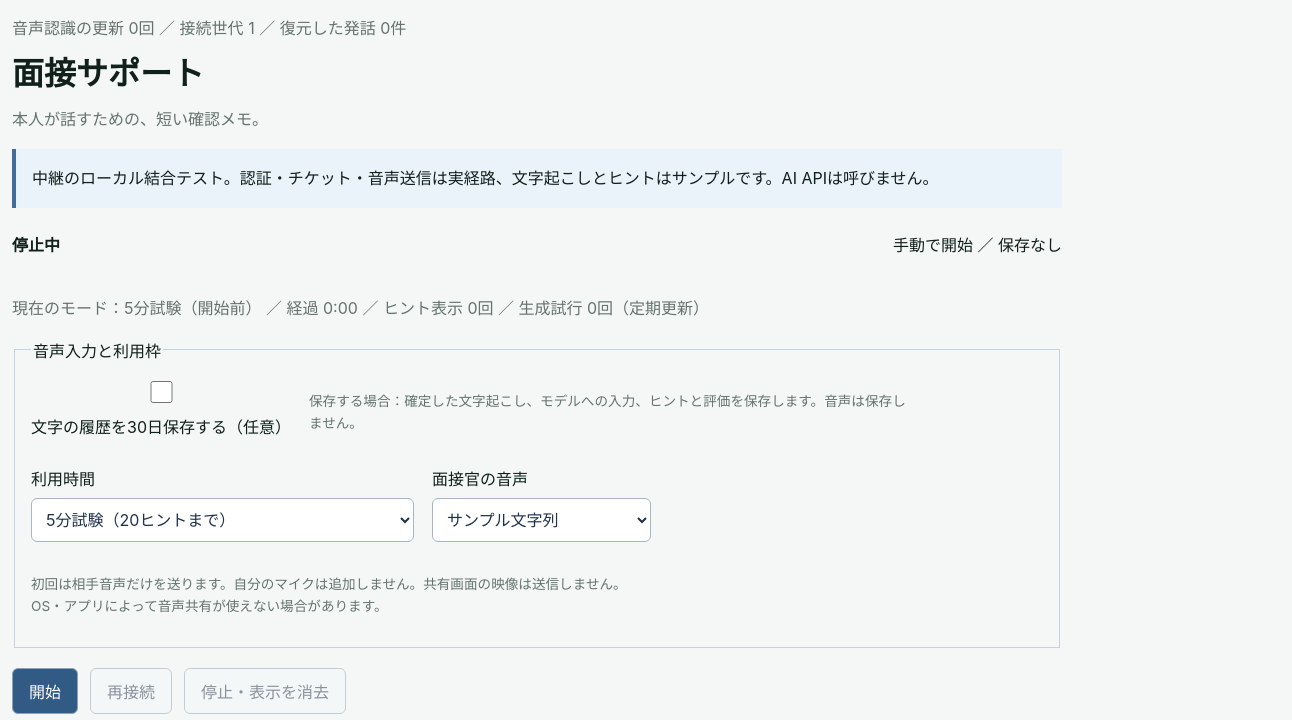
Test: relay panel › starts with saving off and requires an explicit checkbox choice
The image size is (1292, 720).
Click the checkbox.
click(162, 392)  # box [35, 381, 288, 403]
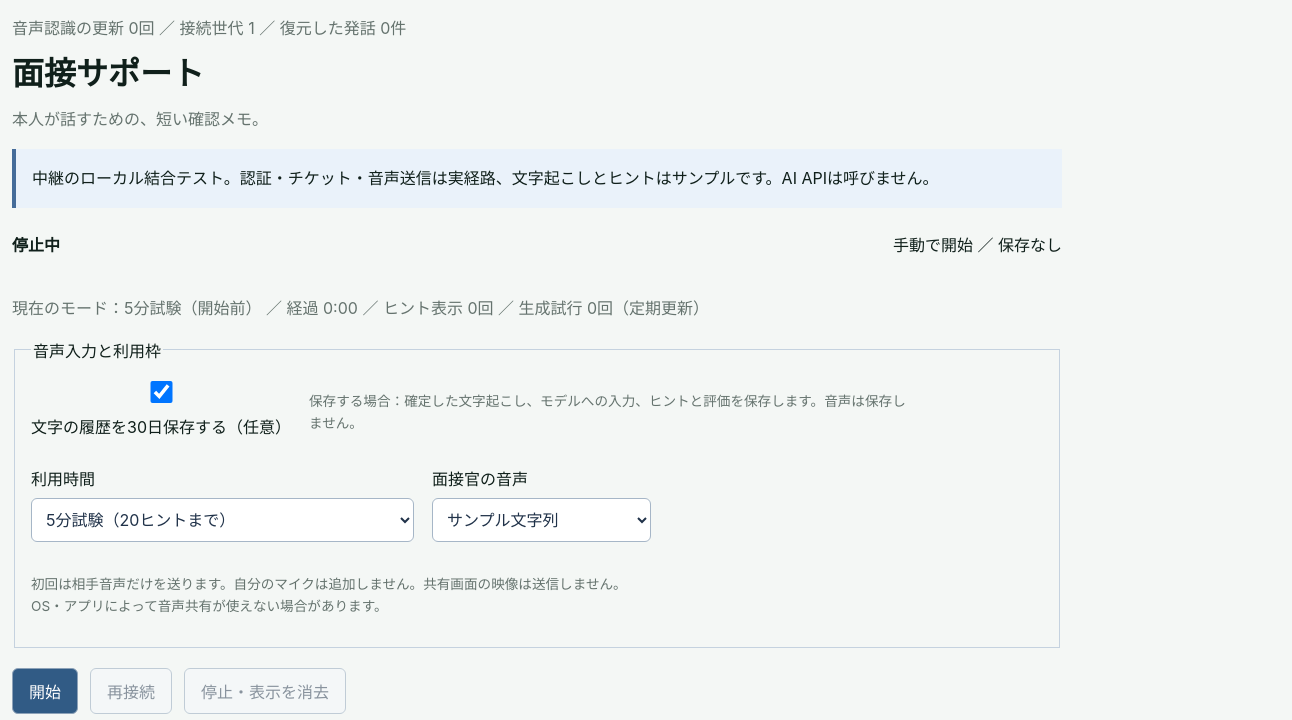
Click the button "開始".
click(45, 691)  # box [12, 668, 78, 714]
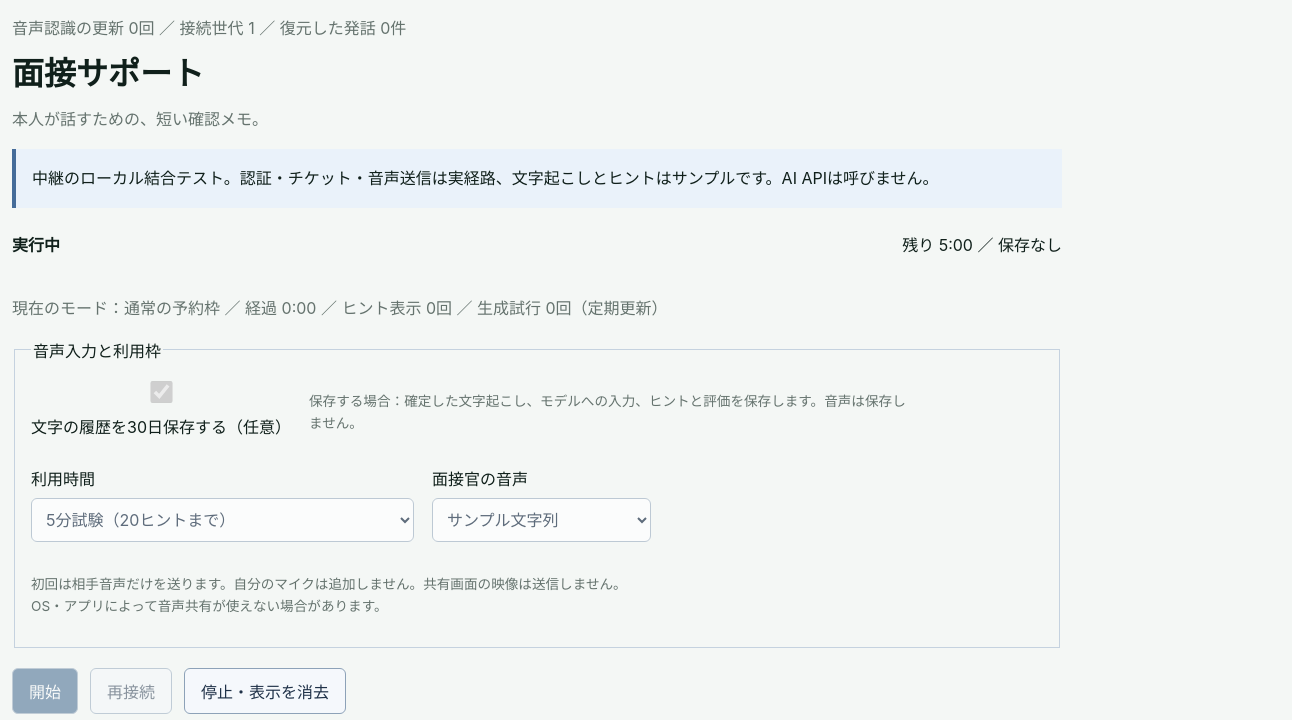
Check: the text "実行中" is shown, box [12, 232, 60, 256]
